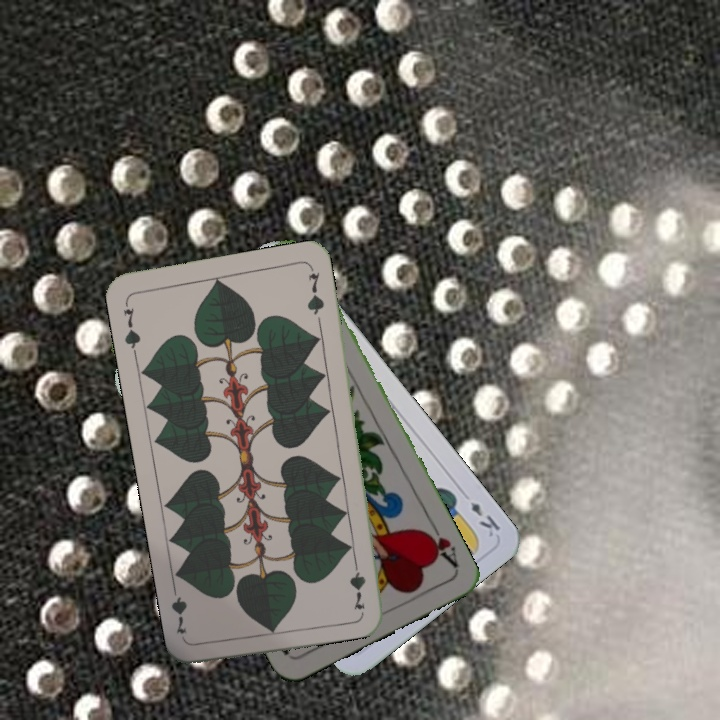EK: (466, 498, 503, 540)
G7: (119, 297, 143, 356), (349, 552, 368, 611)
HA: (419, 516, 461, 571)
